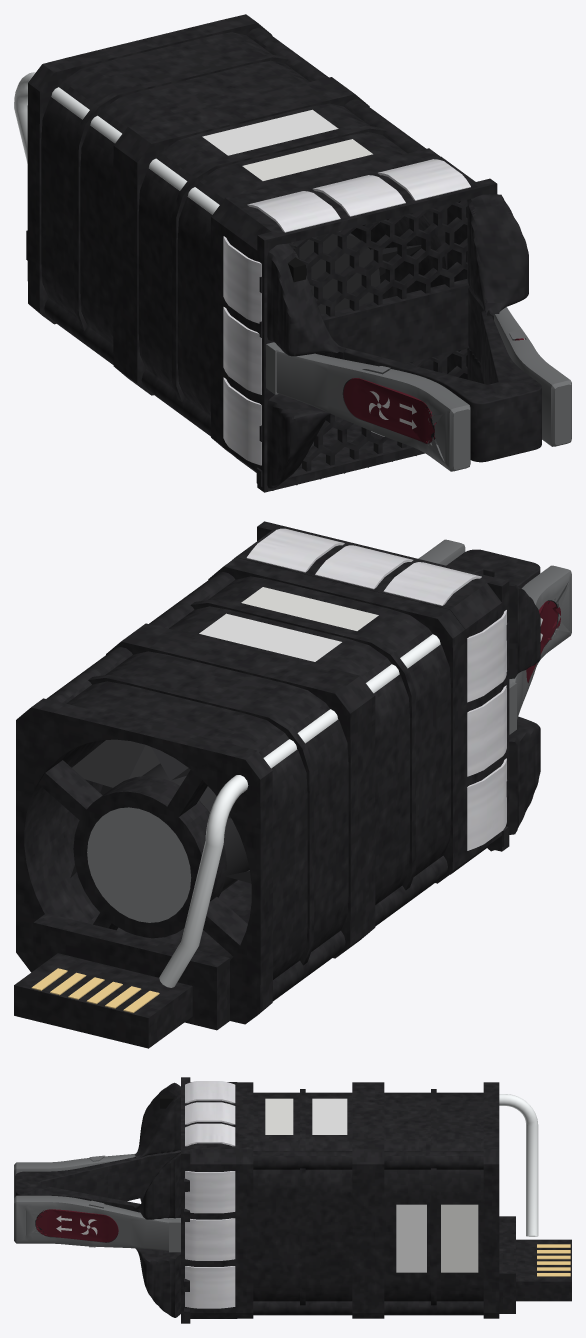
Rendered from FAN-T4-R.glb.
The picture shows the model from 3 angles, top to bottom: view 1: azimuth 30°, elevation 25°; view 2: azimuth 150°, elevation 25°; view 3: azimuth 270°, elevation 25°; orthographic projection. The views are drawn at different scales.
Visible parts, largest first — view 1: Body; view 2: Body; view 3: Body.
Part boxes in pixels (x1,y1,x2,y2): Body: (14,14,571,492); Body: (14,521,571,1048); Body: (14,1077,571,1323).
Size of the model in its own units: 0.0407 by 0.0414 by 0.1192.
Materials: 11 (2 with a texture image).
